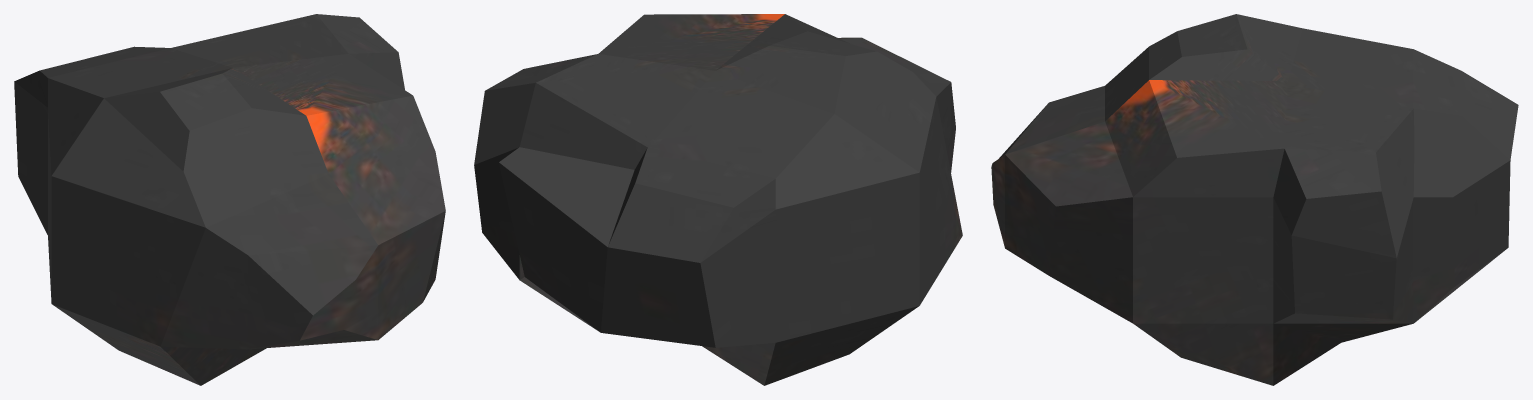
File: stone_2.fbx
3 renders of one model, left to right at view 1: azimuth 30°, elevation 25°; view 2: azimuth 150°, elevation 25°; view 3: azimuth 270°, elevation 25°, orthographic. The views are drawn at different scales.
Parts seen in each view (by area): view 1: Cube; view 2: Cube; view 3: Cube.
Boxes of the visible parts, x1,y1,x2,y2 form: Cube: [14, 14, 445, 385]; Cube: [474, 14, 962, 385]; Cube: [991, 14, 1518, 385].
Bounding box in the file's own units: 260 × 194 × 329.
